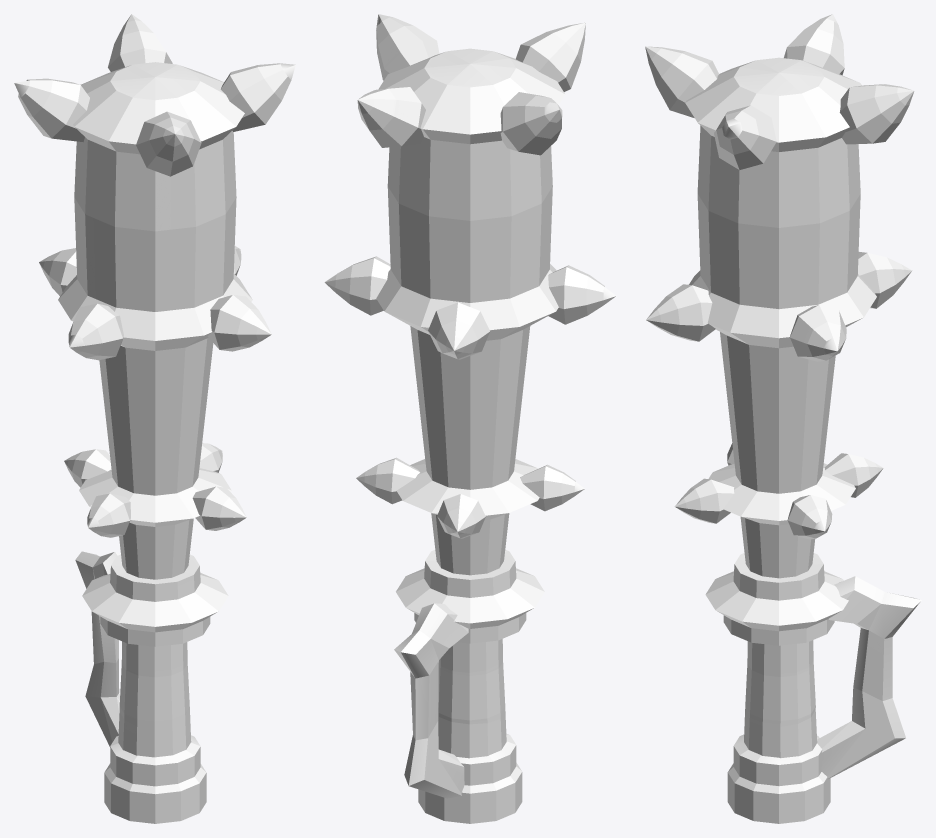
3 views of the same model, side by side, from view 1: azimuth 30°, elevation 25°; view 2: azimuth 150°, elevation 25°; view 3: azimuth 270°, elevation 25° (orthographic).
Parts seen in each view (by area): view 1: Weap_group1Weap1; view 2: Weap_group1Weap1; view 3: Weap_group1Weap1.
Part boxes in pixels (left/top/right/bottom): Weap_group1Weap1: left=14, top=14, right=295, bottom=823; Weap_group1Weap1: left=324, top=14, right=615, bottom=823; Weap_group1Weap1: left=645, top=14, right=921, bottom=823.
Bounding box in the file's own units: 3.77 × 11.53 × 3.9.
